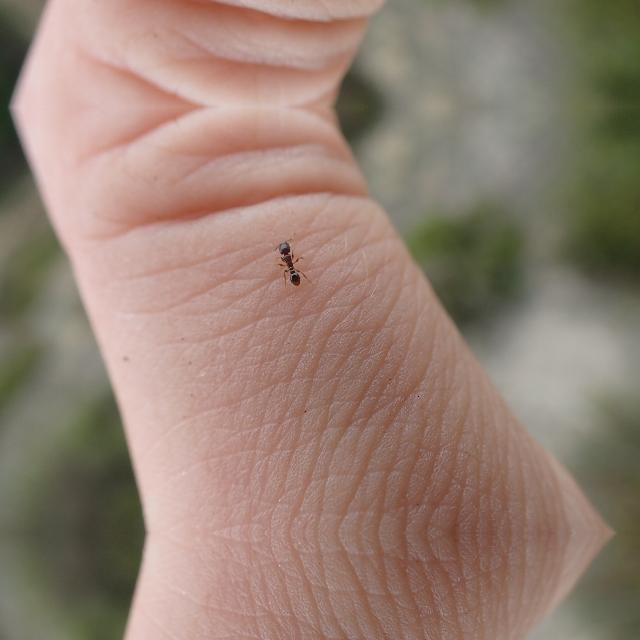Tetramorium: (274, 228, 316, 296)
